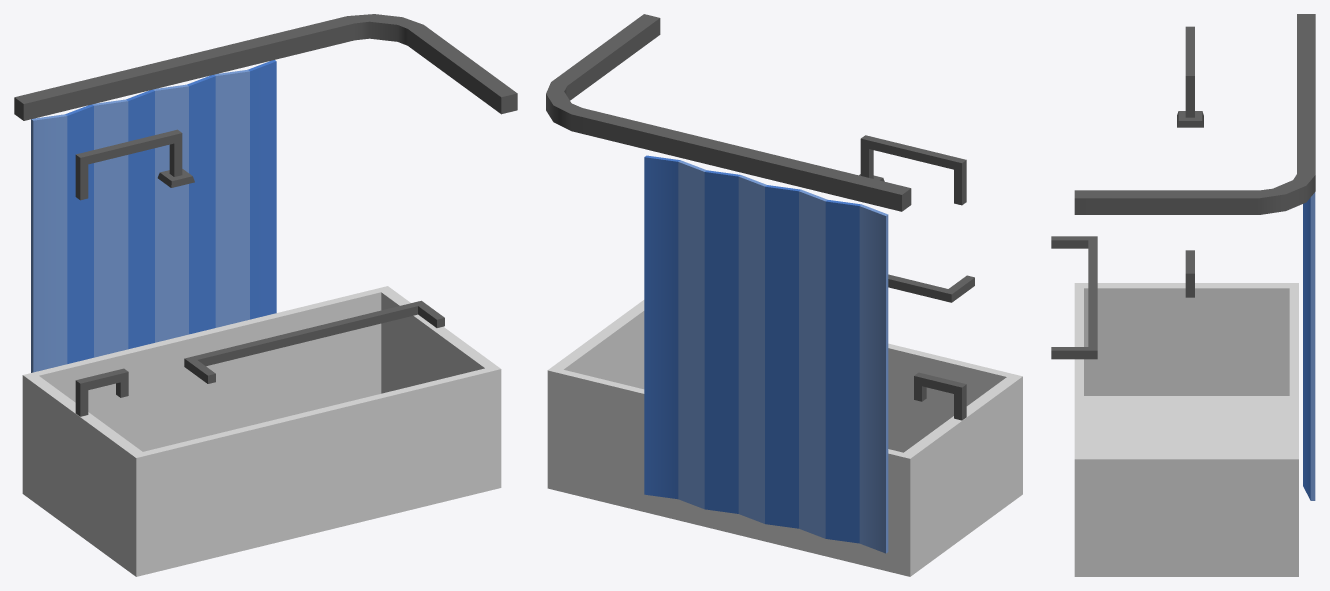
File: Ducha.fbx
The picture shows the model from 3 angles, left to right: view 1: azimuth 30°, elevation 25°; view 2: azimuth 150°, elevation 25°; view 3: azimuth 270°, elevation 25°; orthographic projection.
Visible parts, largest first — view 1: Ducha; view 2: Ducha; view 3: Ducha.
Boxes of the visible parts, left/top/right/bottom form: Ducha: left=14, top=14, right=517, bottom=576; Ducha: left=546, top=14, right=1022, bottom=576; Ducha: left=1051, top=14, right=1315, bottom=576.
Size of the model in its own units: 235 by 230 by 142.
